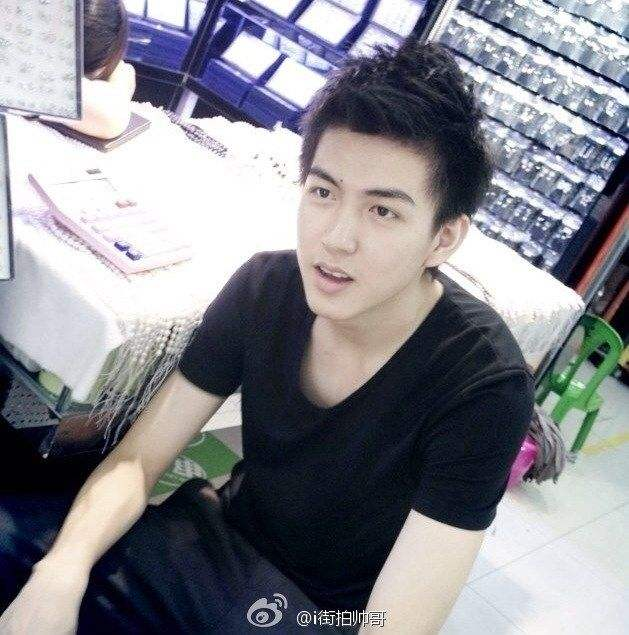person: (142, 67, 562, 613)
